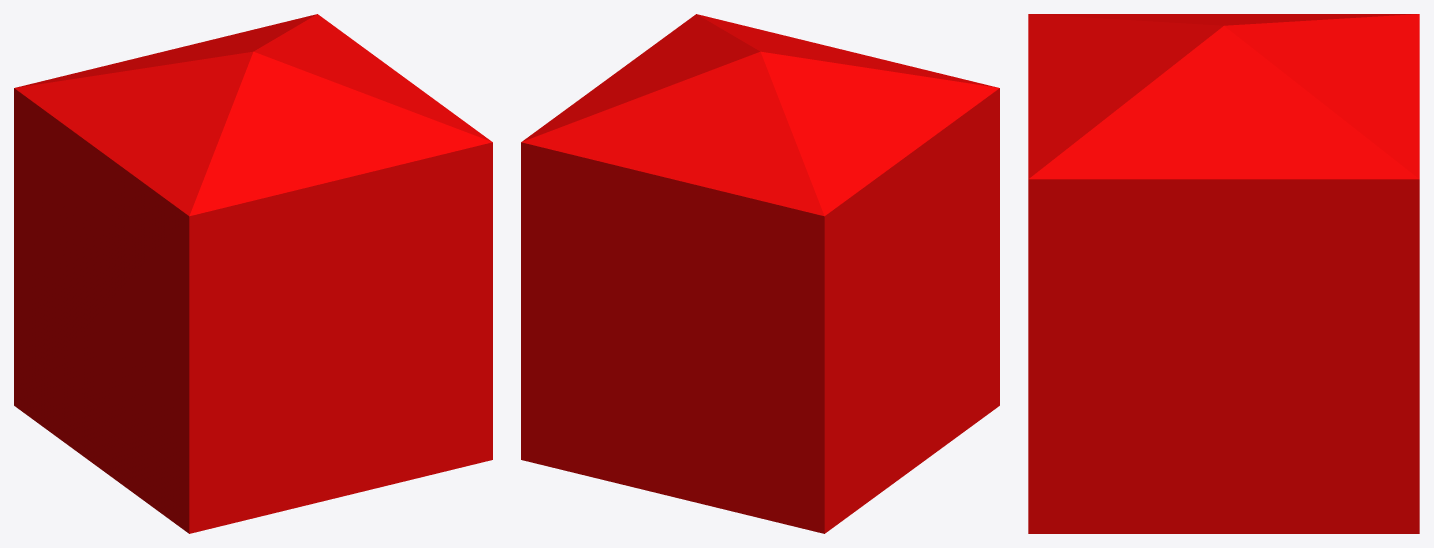
Rendered from branch.fbx.
3 renders of one model, left to right at view 1: azimuth 30°, elevation 25°; view 2: azimuth 150°, elevation 25°; view 3: azimuth 270°, elevation 25°, orthographic. The views are drawn at different scales.
Parts seen in each view (by area): view 1: Model; view 2: Model; view 3: Model.
Part boxes in pixels (left/top/right/bottom): Model: left=14, top=14, right=492, bottom=533; Model: left=521, top=14, right=999, bottom=533; Model: left=1028, top=14, right=1419, bottom=533.
Bounding box in the file's own units: 10 × 14 × 10.
